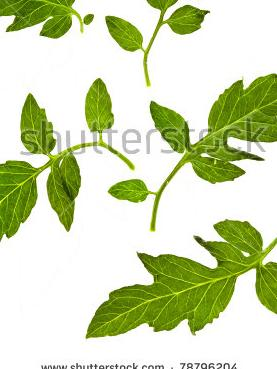Tomato leaf: (82, 181, 277, 356), (0, 74, 125, 272), (149, 52, 277, 222), (113, 0, 277, 126), (0, 0, 102, 51)
